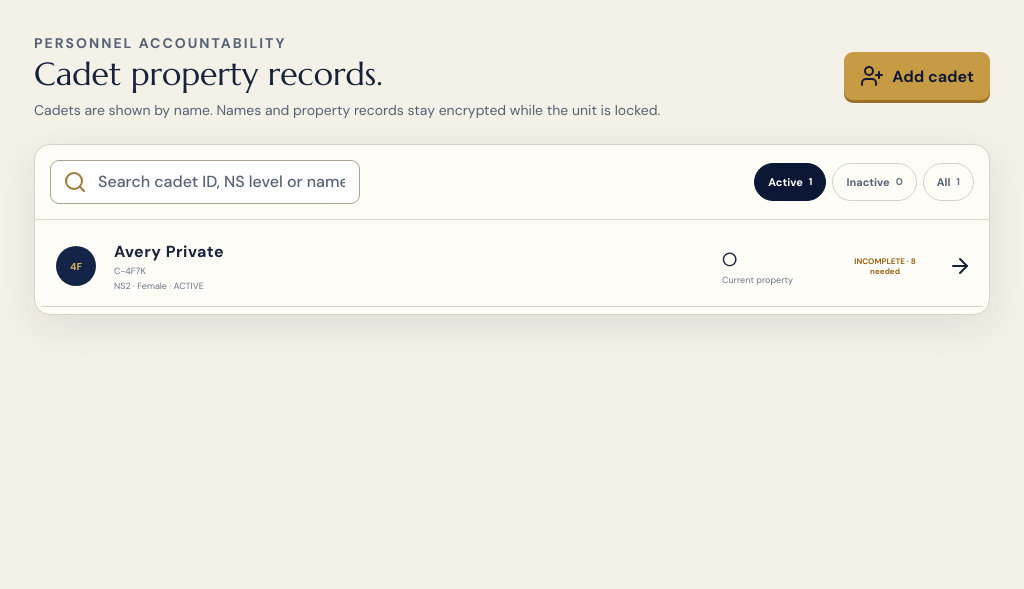
Test: Make phone ticket in the cadet drawer (mw-kmgi38.13) › offline, the drawer and the toast say the ticket is saved here and goes out when the network is reachable
Click the button "C-4F7K".
click(76, 266)  # box [42,227,982,307]
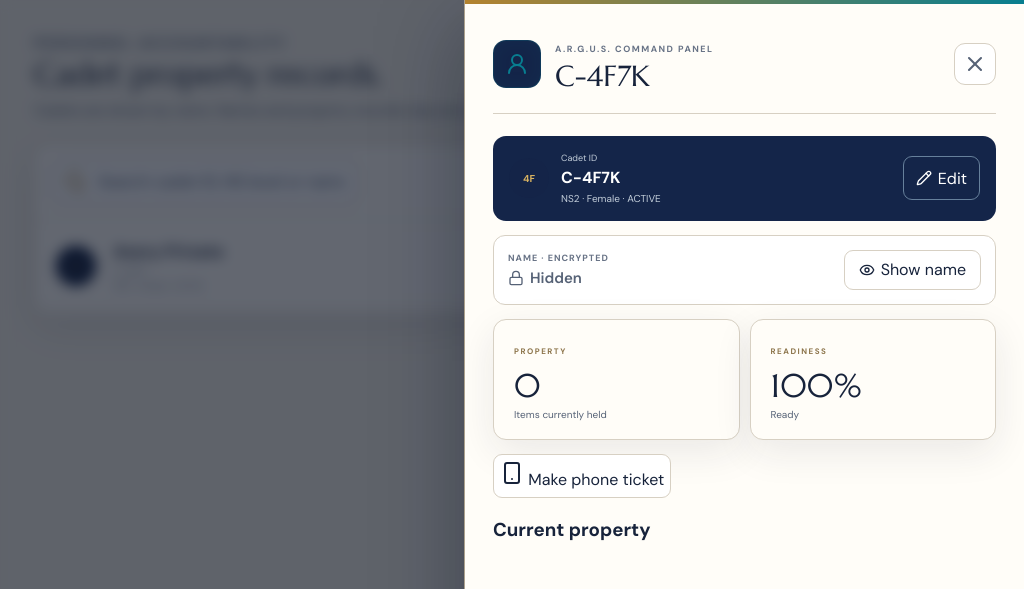
Click the button "Make phone ticket".
click(582, 476)  # box [493,454,671,498]
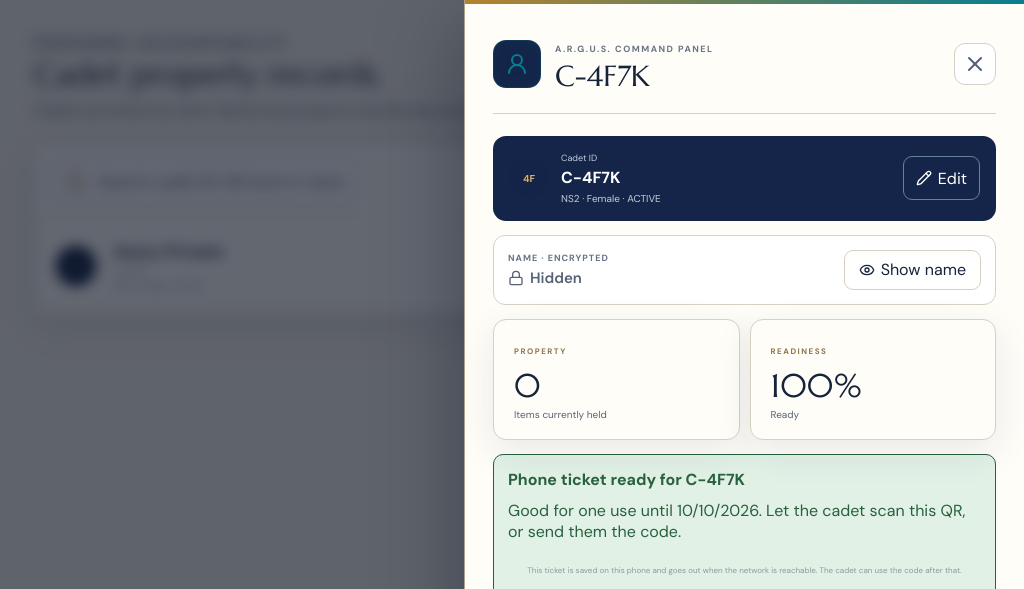
Check: the text "saved on this phone and goes out when the network is reachable" is shown, box [568,565,960,575]
